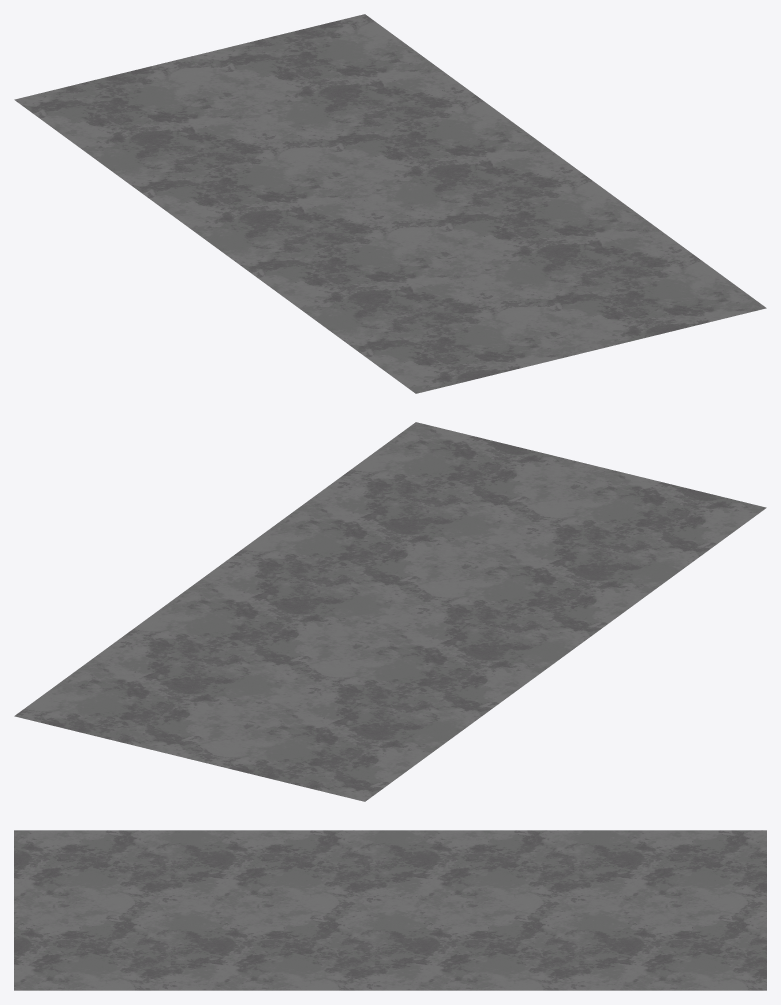
Rendered from RoughLowerFloor.fbx.
3 renders of one model, top to bottom at view 1: azimuth 30°, elevation 25°; view 2: azimuth 150°, elevation 25°; view 3: azimuth 270°, elevation 25°, orthographic. The views are drawn at different scales.
Parts seen in each view (by area): view 1: Rough Lower Floor; view 2: Rough Lower Floor; view 3: Rough Lower Floor.
Part boxes in pixels (left/top/right/bottom): Rough Lower Floor: left=14, top=14, right=766, bottom=393; Rough Lower Floor: left=14, top=422, right=766, bottom=801; Rough Lower Floor: left=14, top=830, right=766, bottom=990.
Bounding box in the file's own units: 29.75 × 9.92e-05 × 59.
